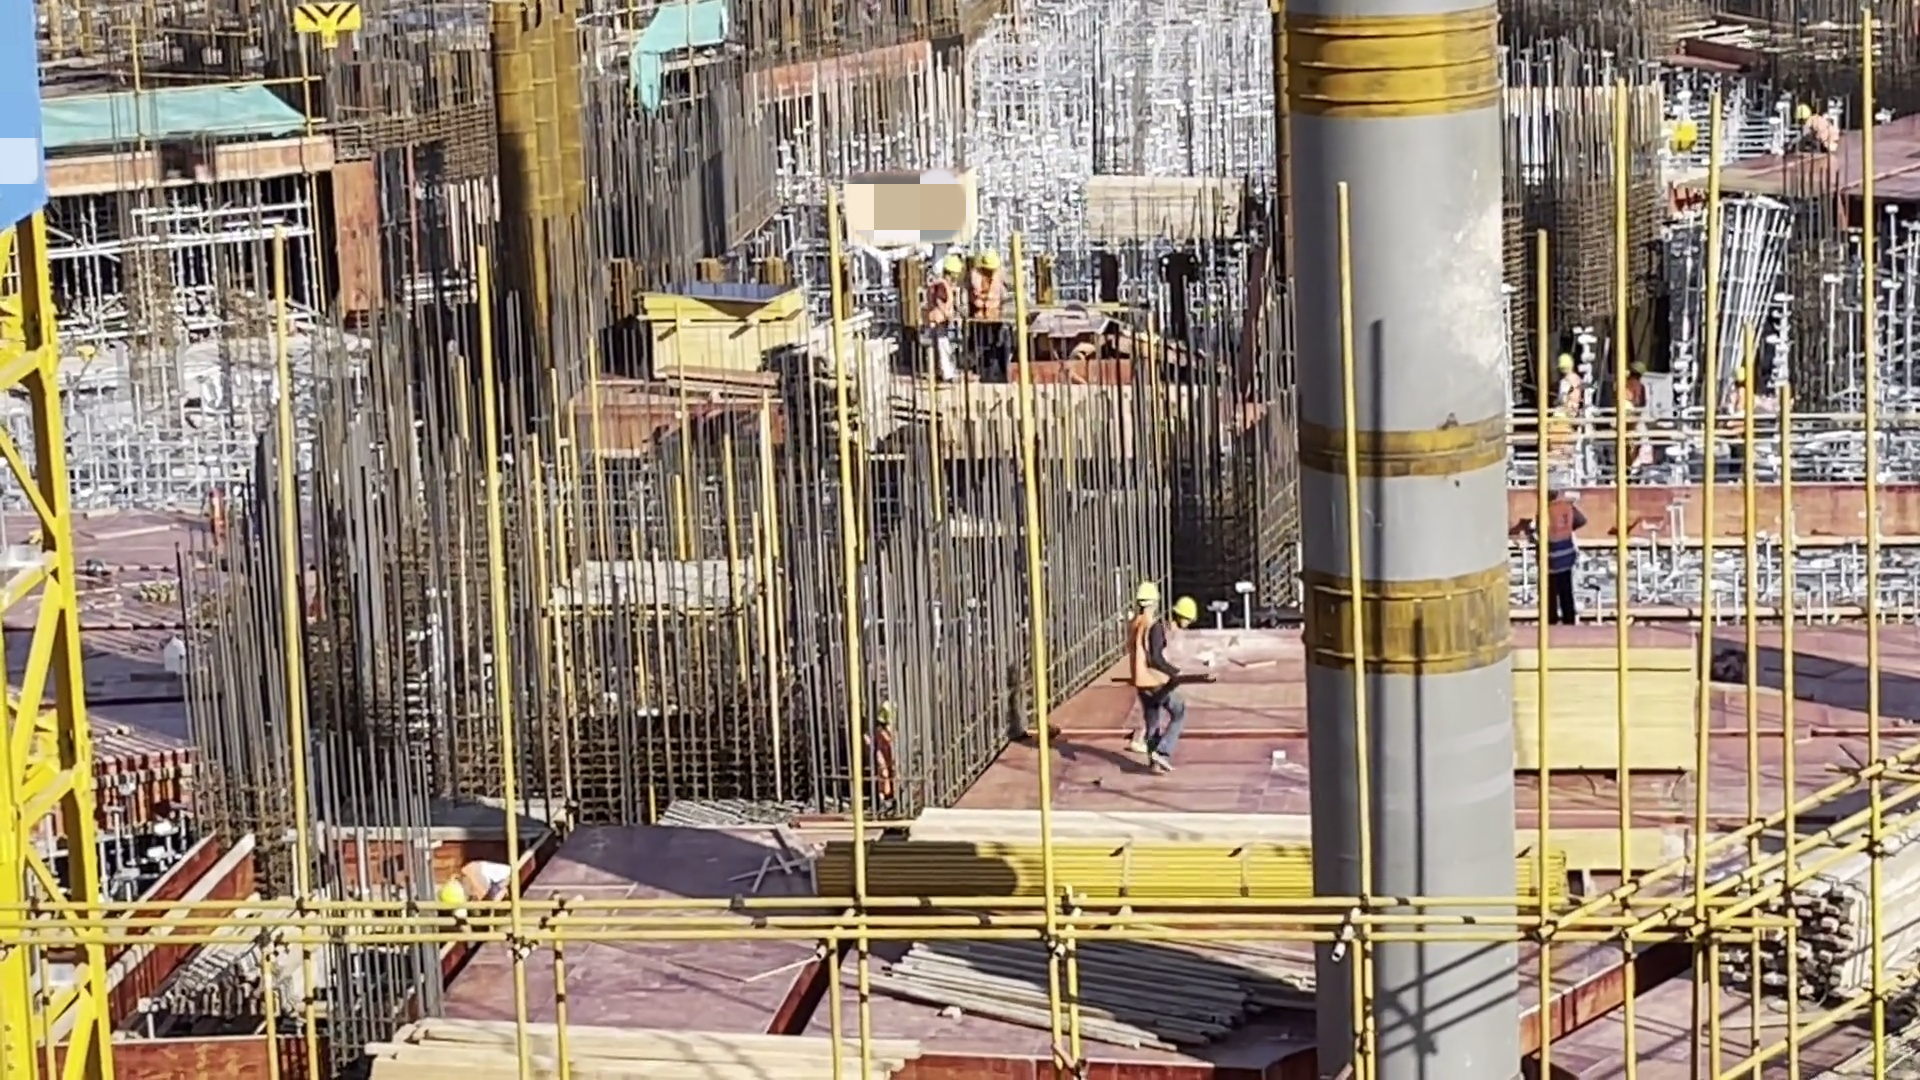helmet: (1168, 588, 1201, 628), (970, 245, 1000, 284), (1535, 480, 1571, 508), (1133, 576, 1164, 605), (441, 874, 468, 907), (1790, 98, 1814, 125), (938, 255, 961, 279), (1552, 345, 1573, 372), (1622, 356, 1641, 380), (1729, 364, 1747, 382)
hook: (291, 1, 369, 70)
person: (1127, 575, 1183, 771), (1522, 477, 1589, 627), (851, 691, 908, 820), (426, 851, 518, 924), (921, 252, 962, 385), (1607, 362, 1651, 474), (968, 248, 1002, 325), (1792, 104, 1844, 152), (1553, 348, 1585, 419)
vest: (1127, 613, 1170, 691), (1534, 508, 1571, 569)
wood: (875, 885, 1262, 1076), (1726, 816, 1920, 998)
